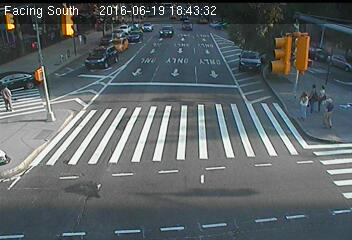neg: (261, 150, 280, 176), (213, 109, 232, 134), (203, 69, 221, 93), (92, 56, 108, 78), (247, 117, 261, 136), (138, 144, 152, 161), (166, 61, 179, 79), (226, 50, 239, 68), (184, 157, 196, 173), (219, 179, 231, 195), (245, 72, 255, 86), (69, 129, 78, 142), (182, 117, 191, 129), (66, 54, 74, 65), (123, 183, 130, 192), (135, 105, 141, 113)
pos: (315, 93, 342, 129), (293, 89, 315, 119), (301, 80, 321, 108), (312, 83, 331, 108), (78, 28, 90, 45), (74, 32, 85, 46)
